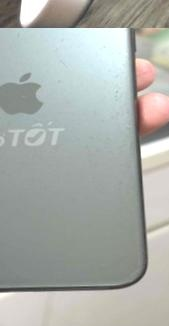scratch: (107, 28, 150, 282), (81, 79, 108, 202), (50, 33, 70, 85)
